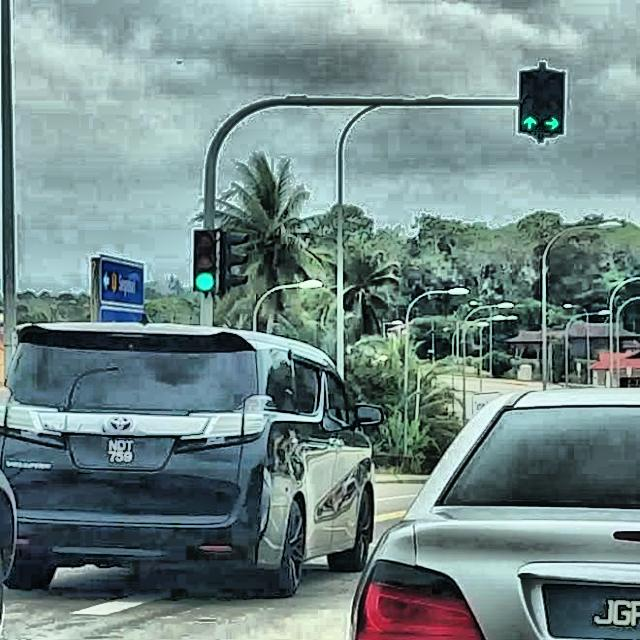green: (518, 71, 544, 130), (193, 230, 214, 292), (543, 72, 563, 134)
